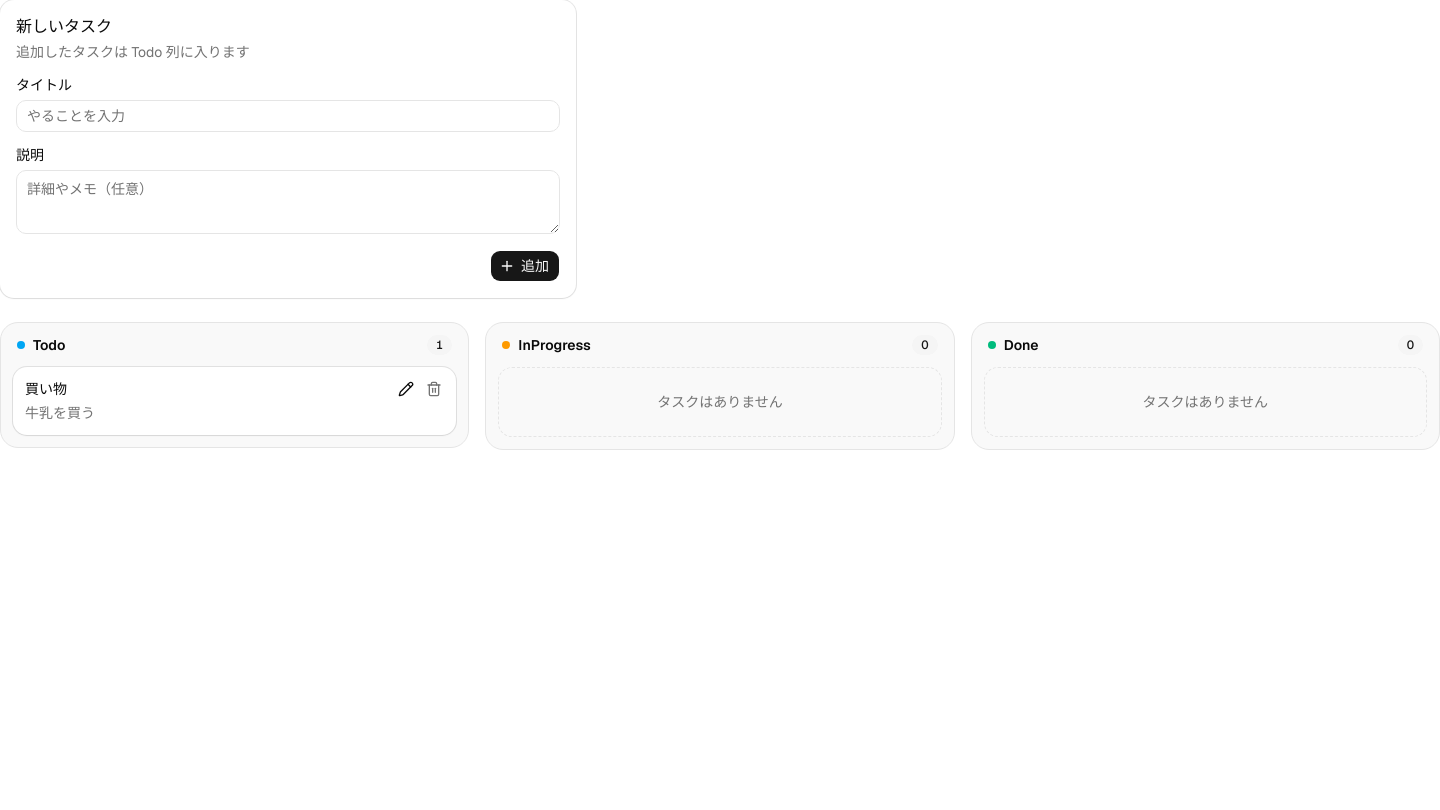
Test: KanbanBoard › 編集 › タイトルを空にして保存するとエラーが表示され、更新されない
The width and height of the screenshot is (1440, 810).
Expected: the element "Todo" is shown, left=0, top=322, right=469, bottom=448
Click the button named "編集" at (406, 389), box left=392, top=375, right=420, bottom=403
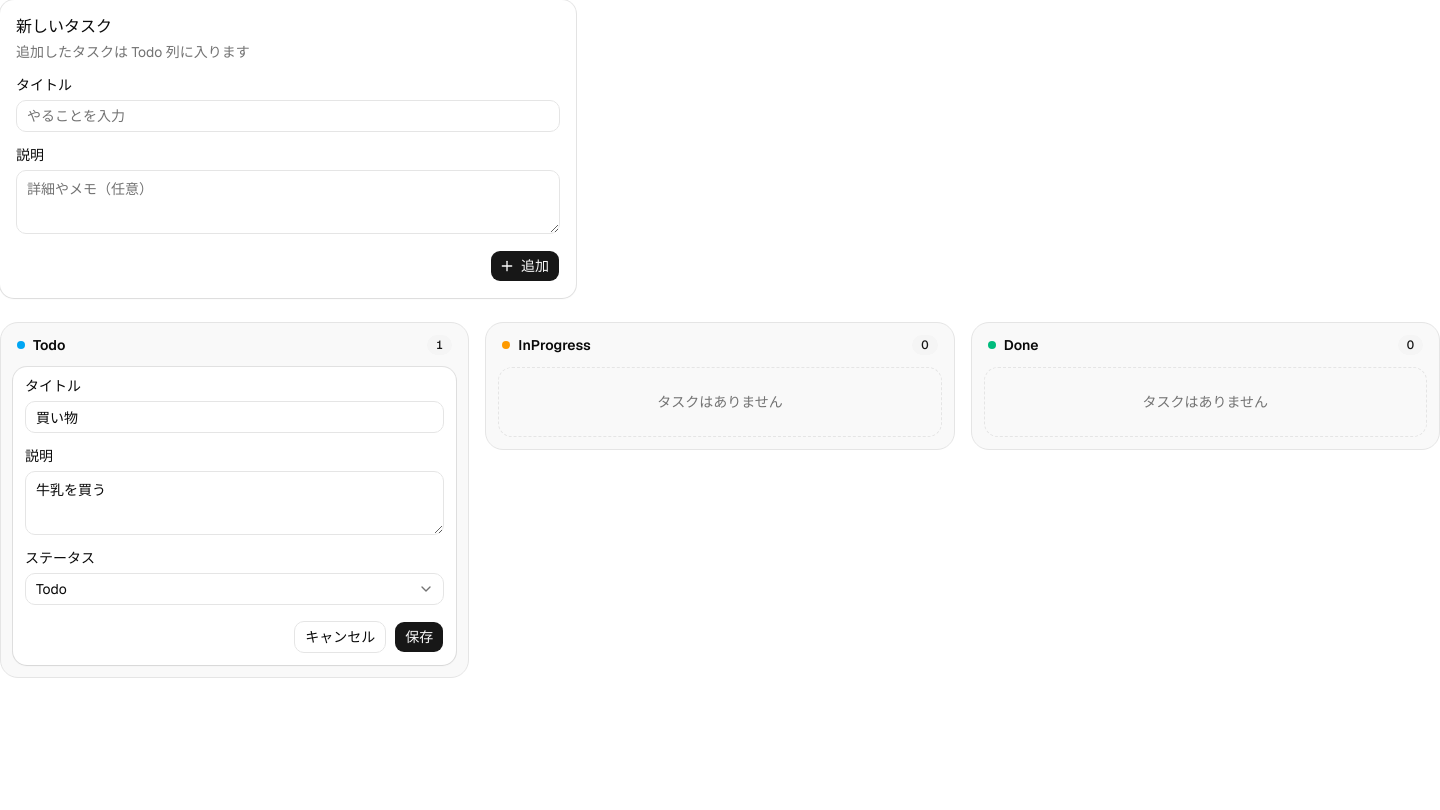
Clear the field labelled "タイトル" below "InProgress" at (235, 417), box left=25, top=401, right=444, bottom=433
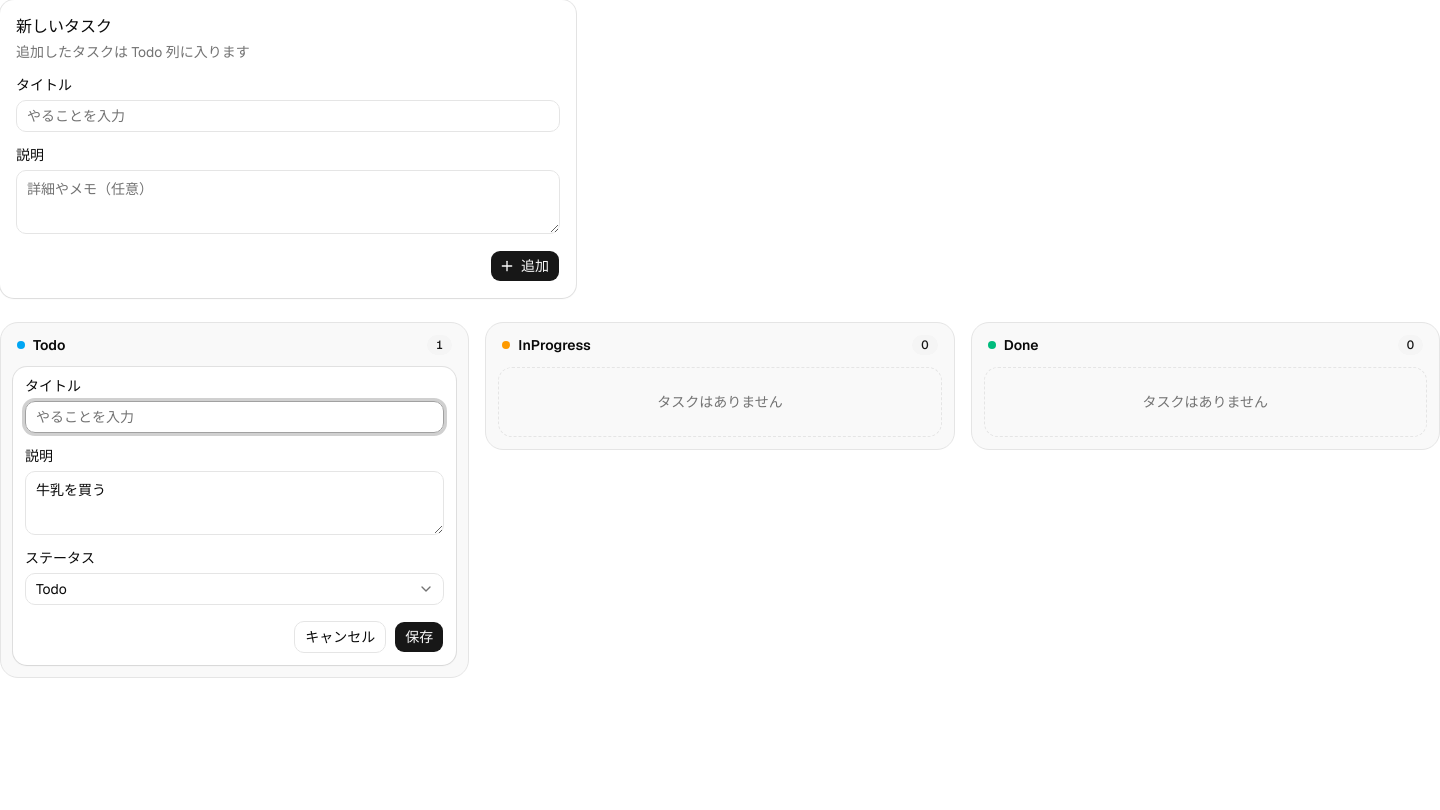
Click the button "保存" at (419, 637), box left=394, top=621, right=444, bottom=653
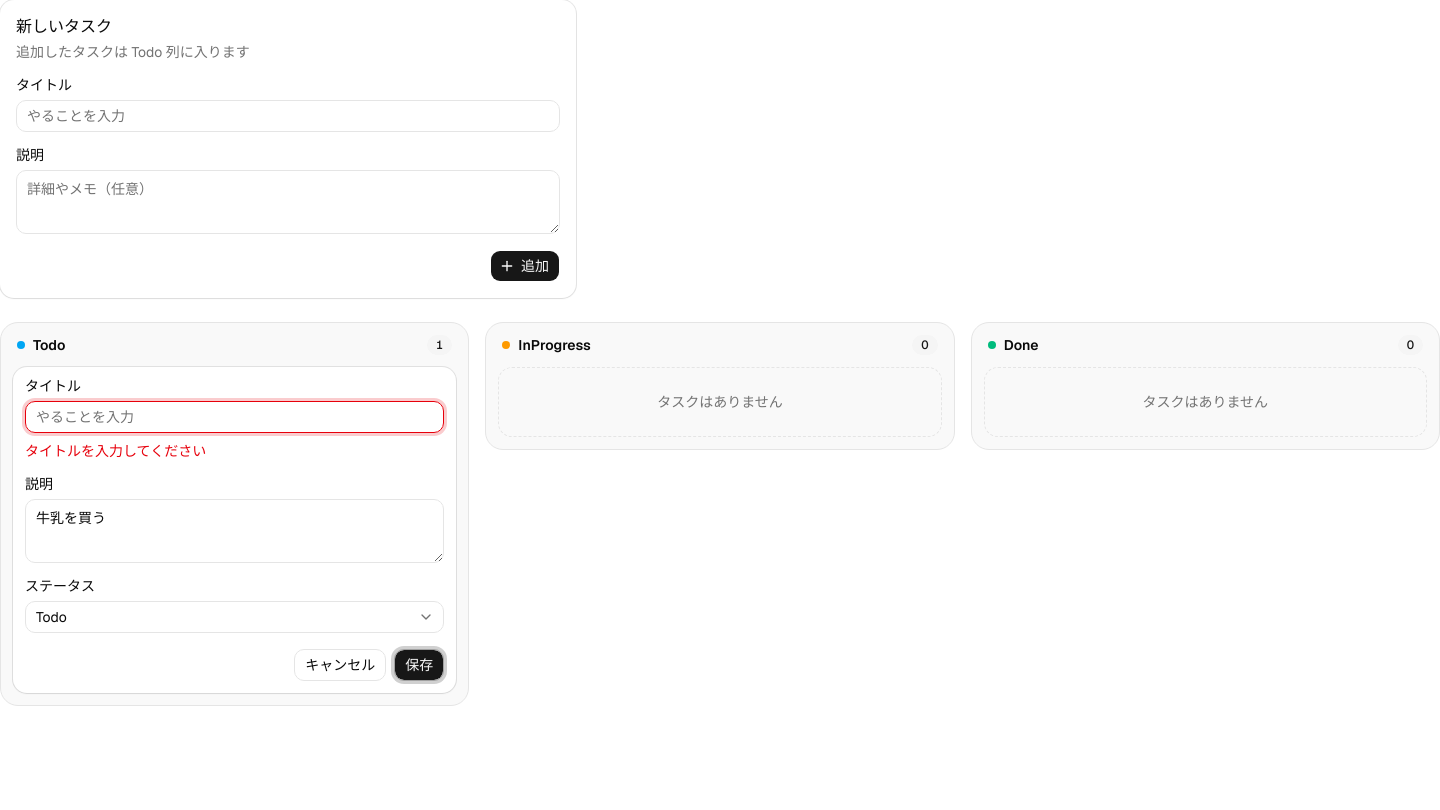
Expected: the message reads "タイトルを入力してください", left=25, top=442, right=206, bottom=460
